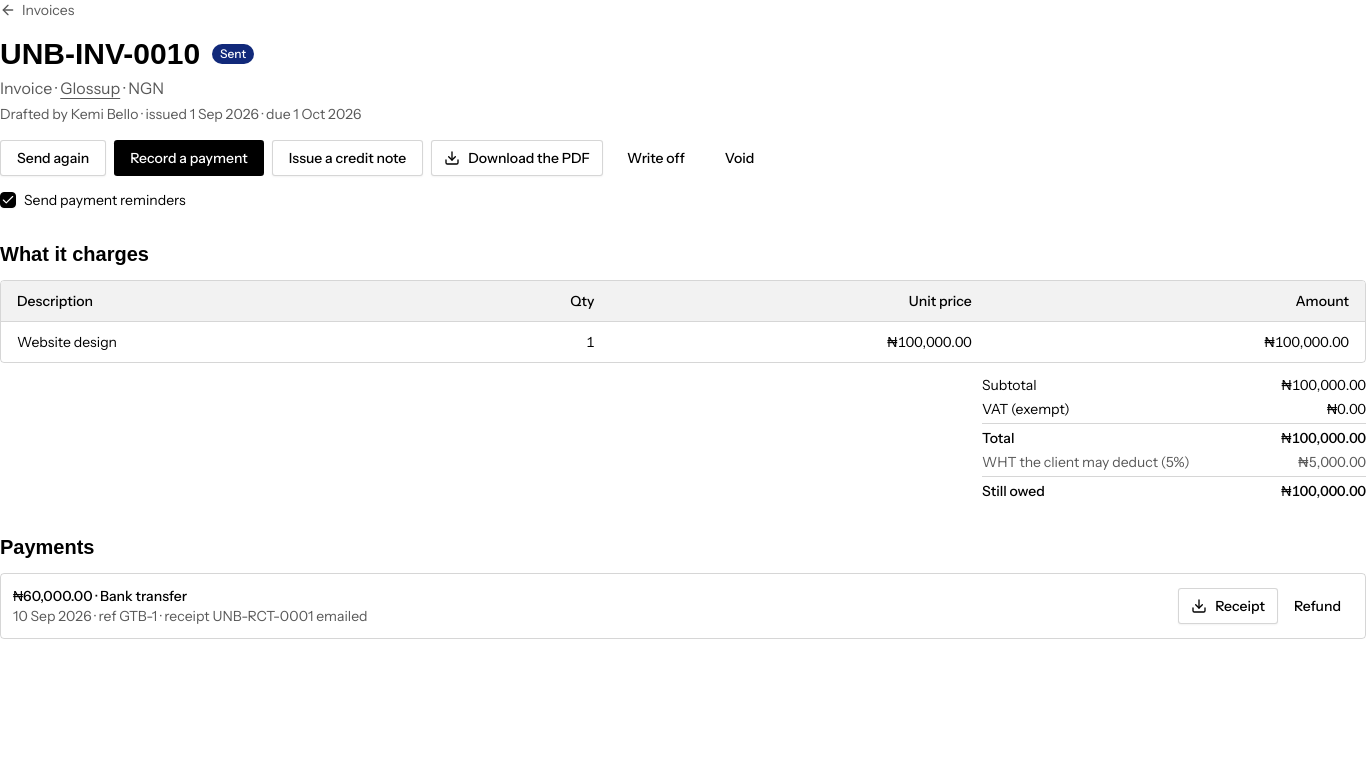
Test: InvoicePage › starts a first payment at the total less the WHT the client will deduct
Click the button "Record a payment".
click(189, 158)  # box [114,140,264,176]
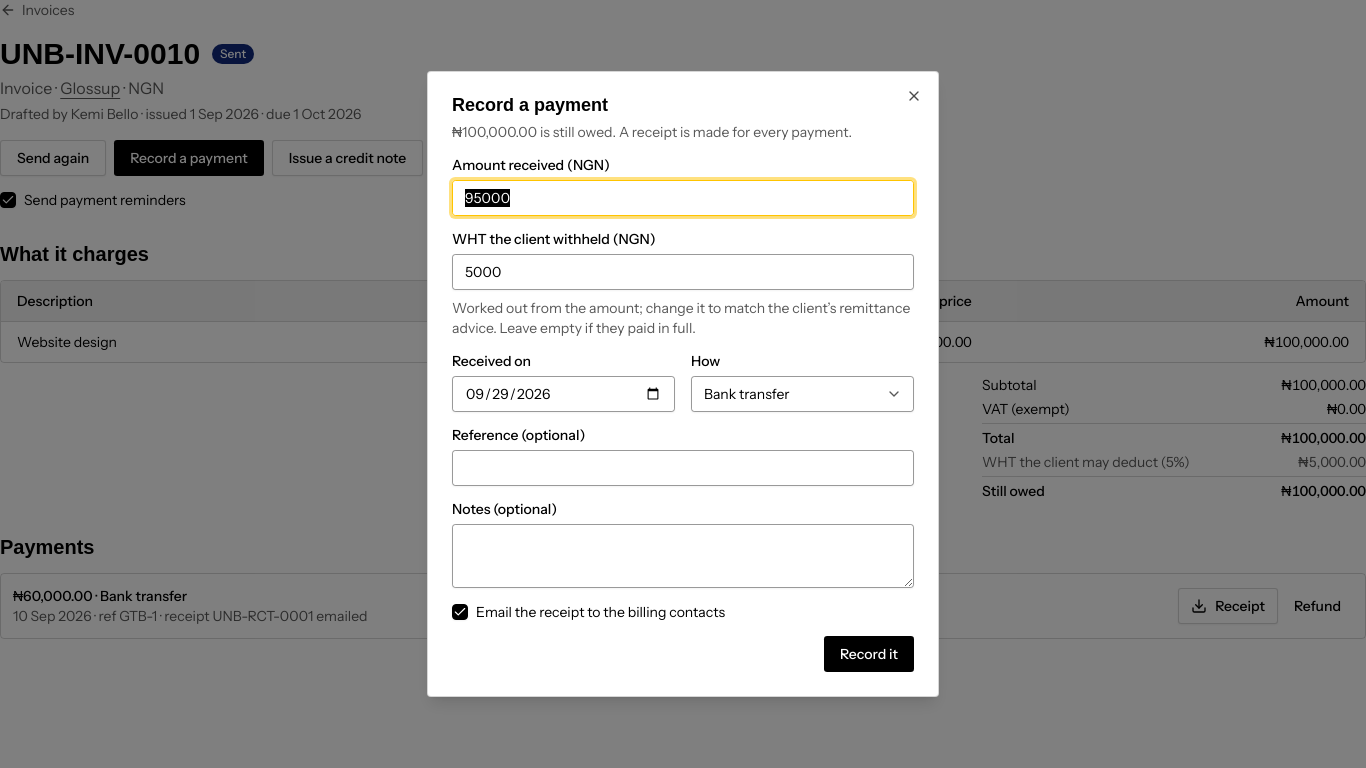
Result: the field labelled "Amount received (NGN)" holds "95000" at [452,180,914,216]
Result: the field labelled "WHT the client withheld (NGN)" holds "5000" at [452,254,914,290]
